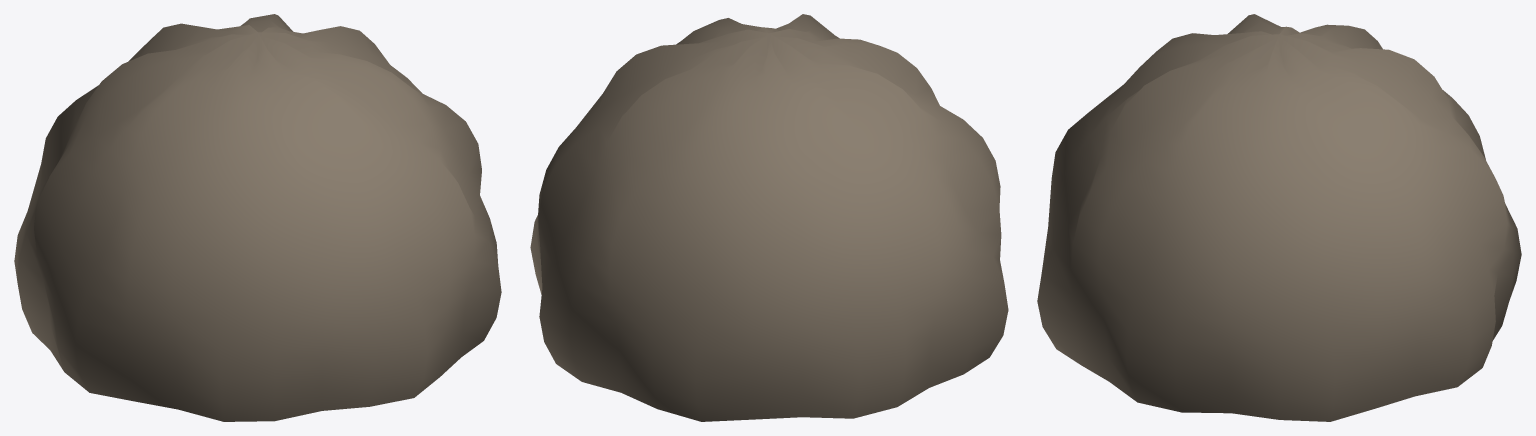
Rendered from curly.glb.
3 renders of one model, left to right at view 1: azimuth 30°, elevation 25°; view 2: azimuth 150°, elevation 25°; view 3: azimuth 270°, elevation 25°, orthographic.
Visible parts, largest first — view 1: Hair_curly; view 2: Hair_curly; view 3: Hair_curly.
Part boxes in pixels (box(x1,y1,x2,y2)): Hair_curly: box(14, 14, 501, 421); Hair_curly: box(530, 14, 1008, 421); Hair_curly: box(1037, 14, 1521, 421).
Size of the model in its own units: 3.23 by 2.16 by 3.23.
